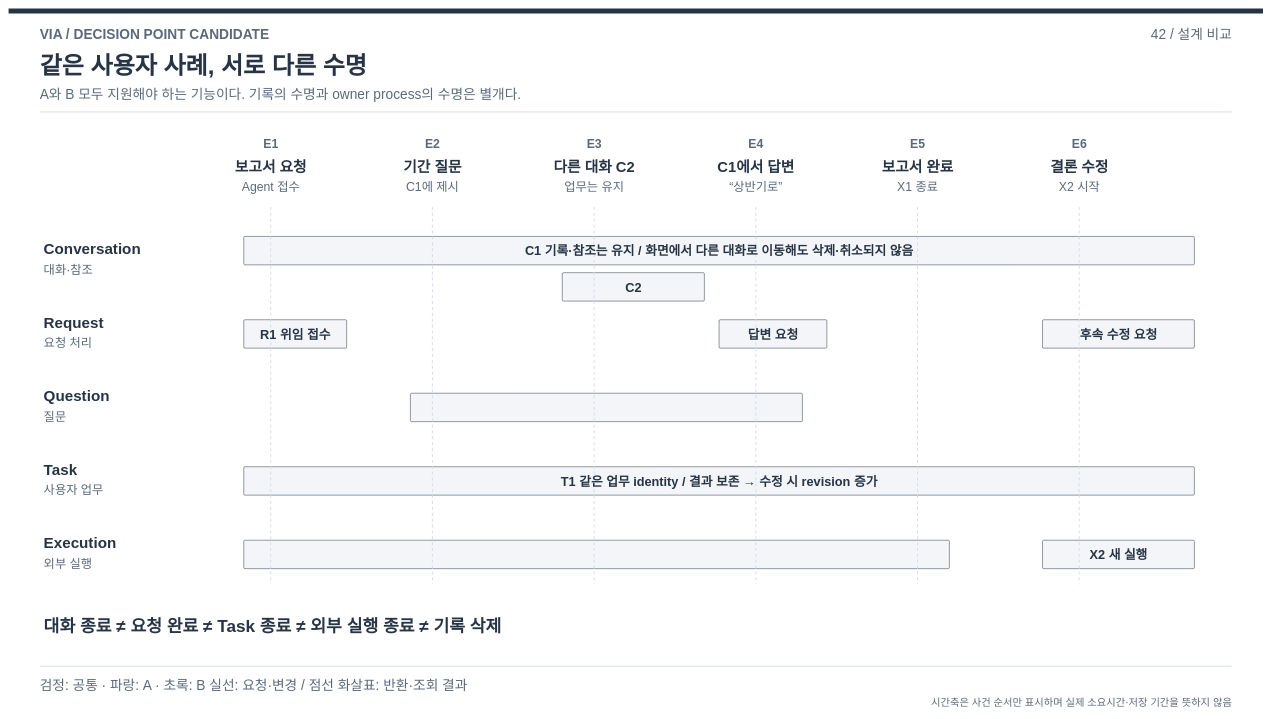
The diagram is 1271 pixels wide and 719 high, and some of its shapes have lost their labels. The shapes that lost their labels are listed below. From the top down, each one's centre as x and y in pixels, then its label:
At point 606,407: "Q1 Agent 질문 → 실제 제시 P1 → 유효한 답변".
At point 596,554: "X1 외부 실행 → 완료 / 완료 이력 유지".
